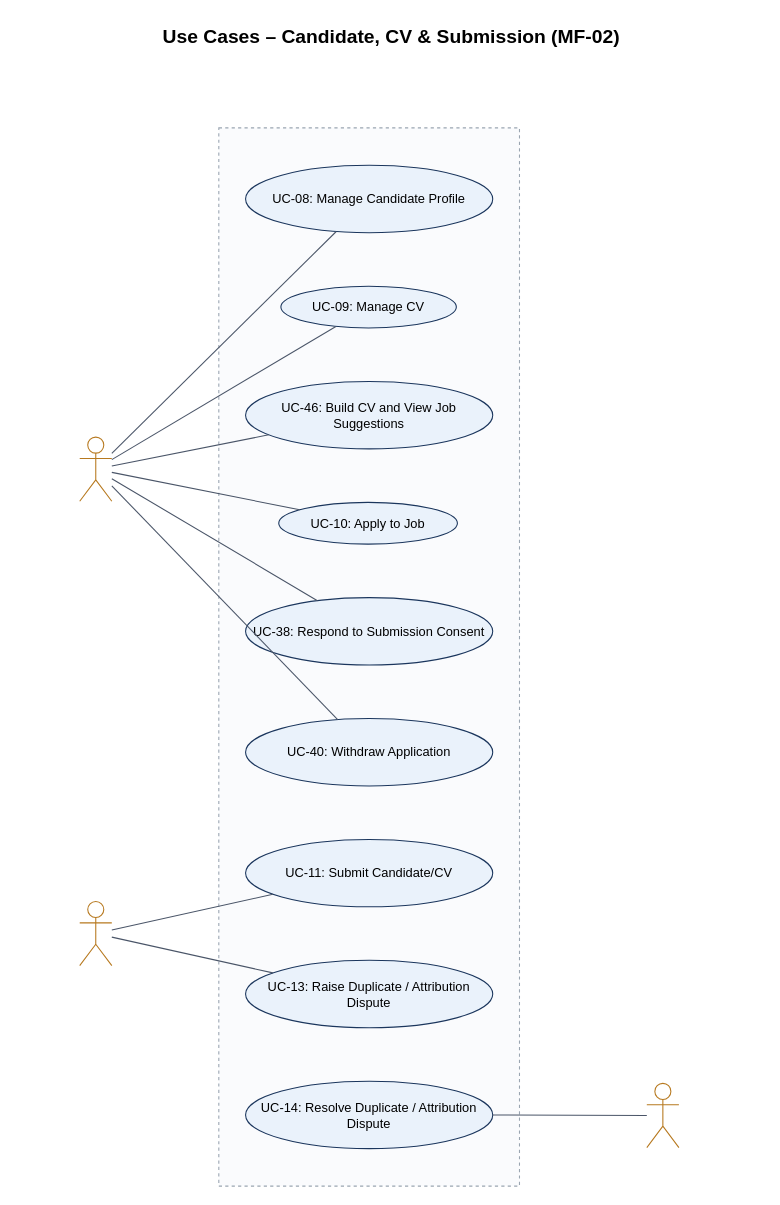
The diagram is 780 pixels wide and 1205 high, and some of its shapes have lost their labels. Here are the shapes that lost their labels. From the top down, the box of each, then its label:
(79, 436, 112, 501): Candidate
(218, 127, 519, 1186): HR Connect
(79, 900, 112, 966): Affiliate
(646, 1082, 679, 1148): Platform Admin
